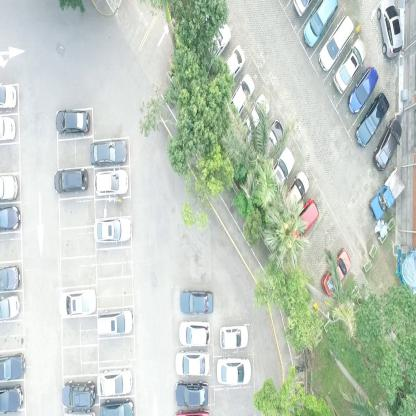car: (317, 12, 354, 72), (368, 167, 406, 222), (333, 36, 367, 95), (355, 90, 389, 148), (303, 0, 340, 49), (287, 196, 320, 247), (374, 1, 403, 59), (240, 92, 270, 146), (347, 63, 378, 115), (256, 117, 284, 173), (280, 169, 311, 219), (321, 247, 352, 296), (373, 118, 402, 170), (218, 41, 245, 92), (268, 143, 296, 191), (203, 21, 232, 66), (228, 74, 255, 120), (58, 286, 96, 318), (93, 167, 128, 199), (89, 135, 127, 164), (174, 349, 212, 378), (217, 355, 252, 385), (96, 368, 133, 396), (62, 376, 96, 406), (93, 216, 132, 242), (54, 109, 91, 136), (96, 310, 133, 336), (51, 169, 89, 194), (178, 288, 214, 313), (174, 380, 210, 405), (180, 320, 211, 347), (0, 384, 27, 412), (0, 350, 25, 380), (220, 323, 249, 347), (98, 398, 135, 416), (0, 262, 22, 292), (0, 292, 21, 322), (0, 205, 21, 233), (0, 172, 18, 202), (0, 82, 17, 111), (0, 113, 17, 141)
